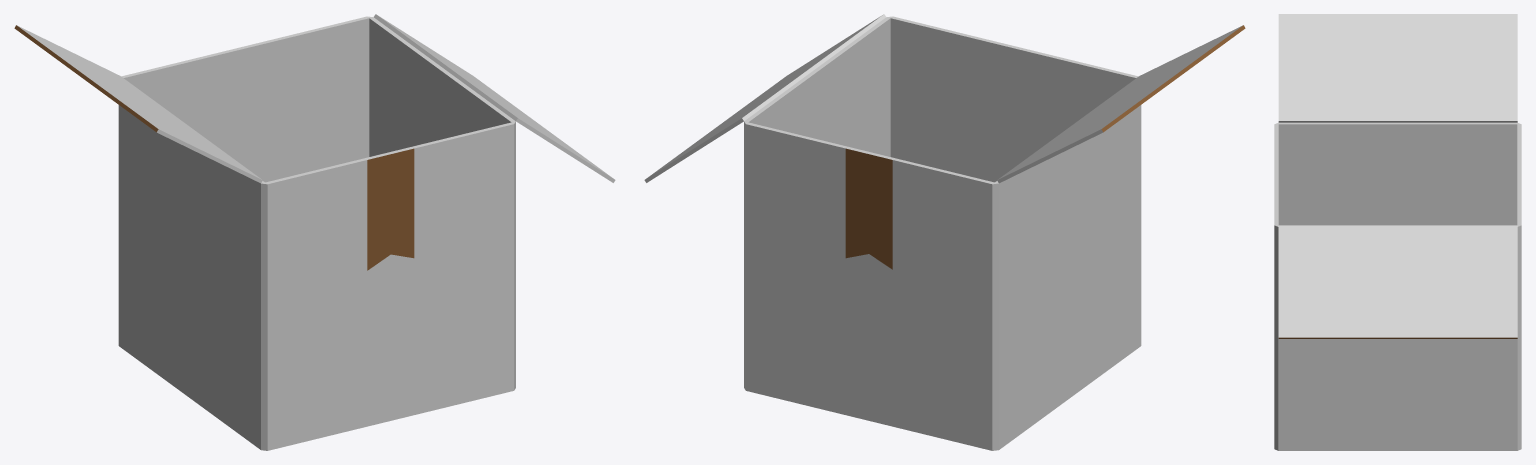
The model's file is Box open 1.fbx.
3 renders of one model, left to right at view 1: azimuth 30°, elevation 25°; view 2: azimuth 150°, elevation 25°; view 3: azimuth 270°, elevation 25°, orthographic. The views are drawn at different scales.
Parts seen in each view (by area): view 1: Box 1.006, Box 1.010, Box 1.007; view 2: Box 1.006, Box 1.010, Box 1.007; view 3: Box 1.006, Box 1.007, Box 1.010.
Part boxes in pixels (box(x1,y1,x2,y2)): Box 1.006: box(118, 16, 515, 450); Box 1.010: box(14, 25, 262, 183); Box 1.007: box(374, 14, 615, 182); Box 1.006: box(744, 16, 1141, 450); Box 1.010: box(997, 25, 1245, 183); Box 1.007: box(644, 14, 885, 182); Box 1.006: box(1274, 122, 1521, 450); Box 1.007: box(1278, 225, 1517, 338); Box 1.010: box(1278, 14, 1517, 122).
Bounding box in the file's own units: 37.24 × 26.83 × 20.68.
